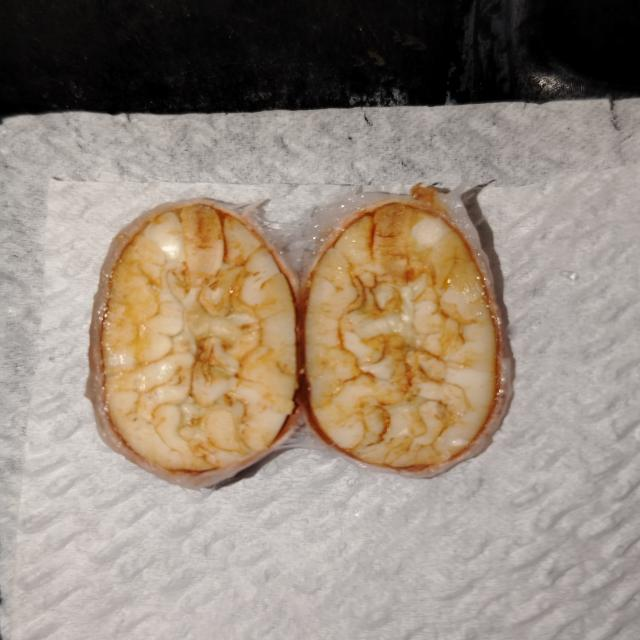Criollo: (302, 214, 499, 482), (110, 211, 294, 478)
